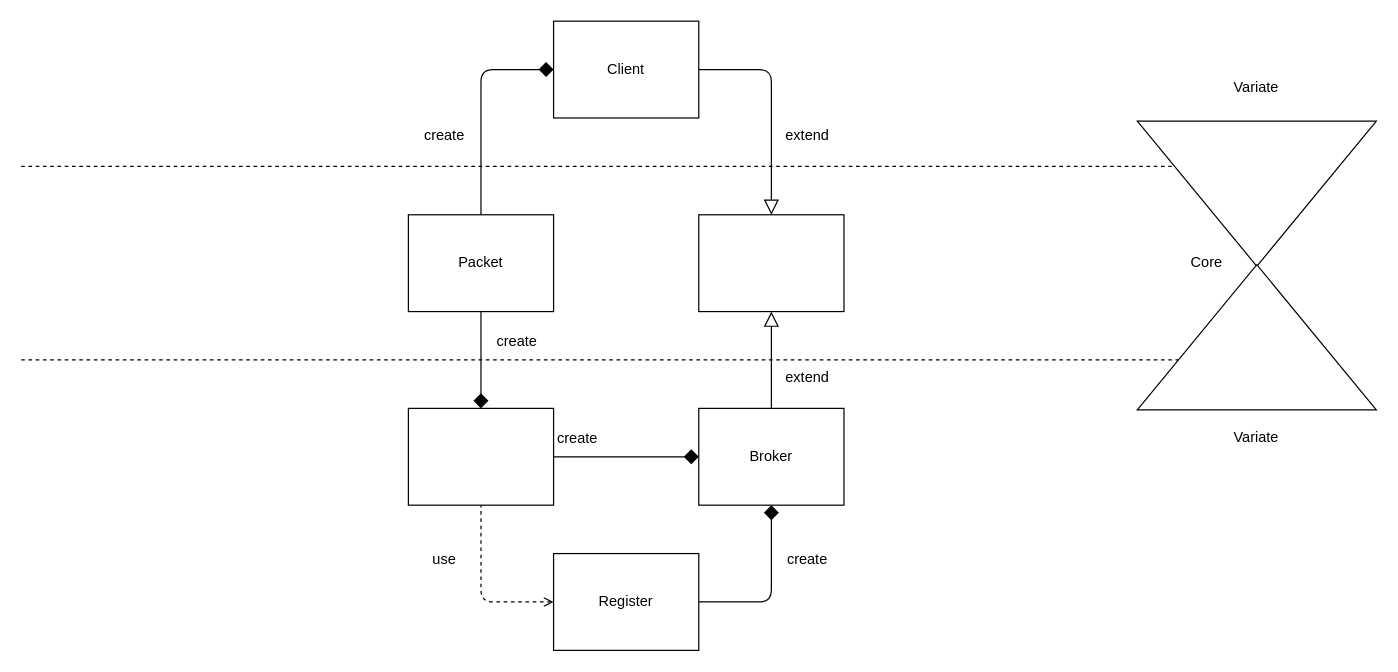
This 1398x672 diagram has some shape labels left out. Here are the shapes that lost their labels. From the top down, the centre of each, then its label:
(x=771, y=263): Thread
(x=480, y=456): Session
